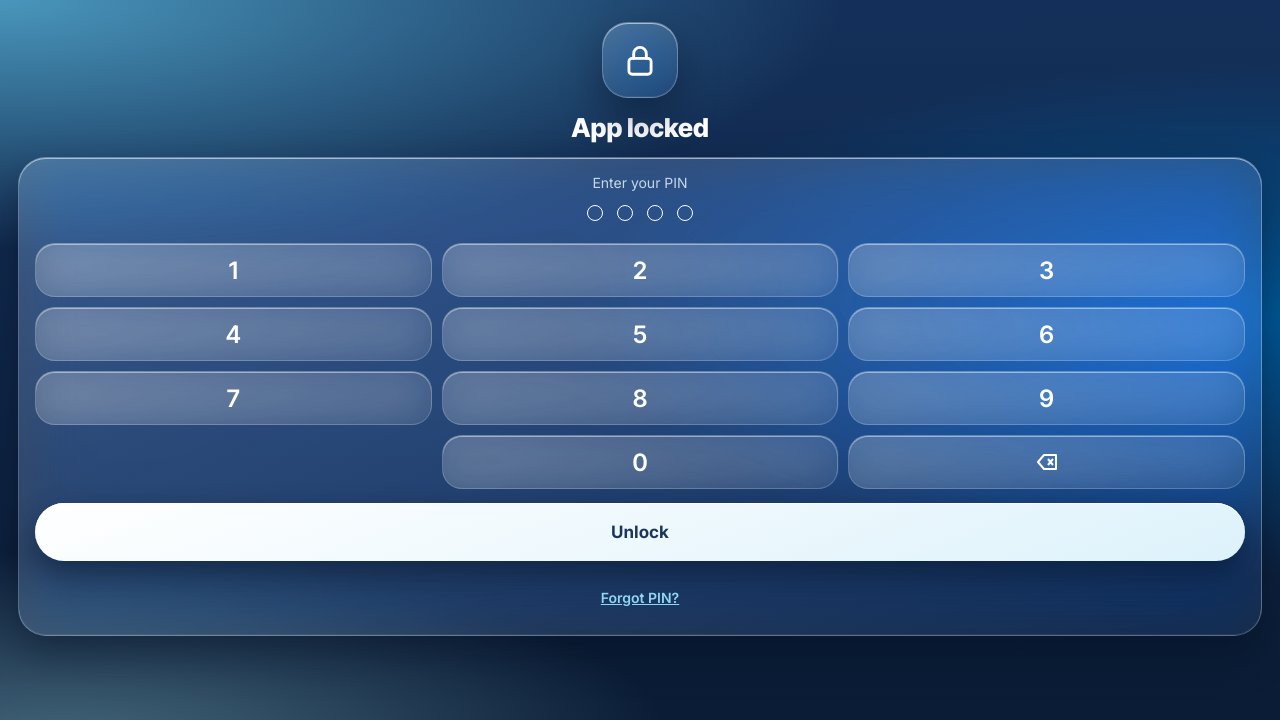
Test case: Forgot PIN: signing in with the same account clears the PIN and unlocks
Click the button "Forgot PIN?": [640, 597] box [593, 575, 687, 619]
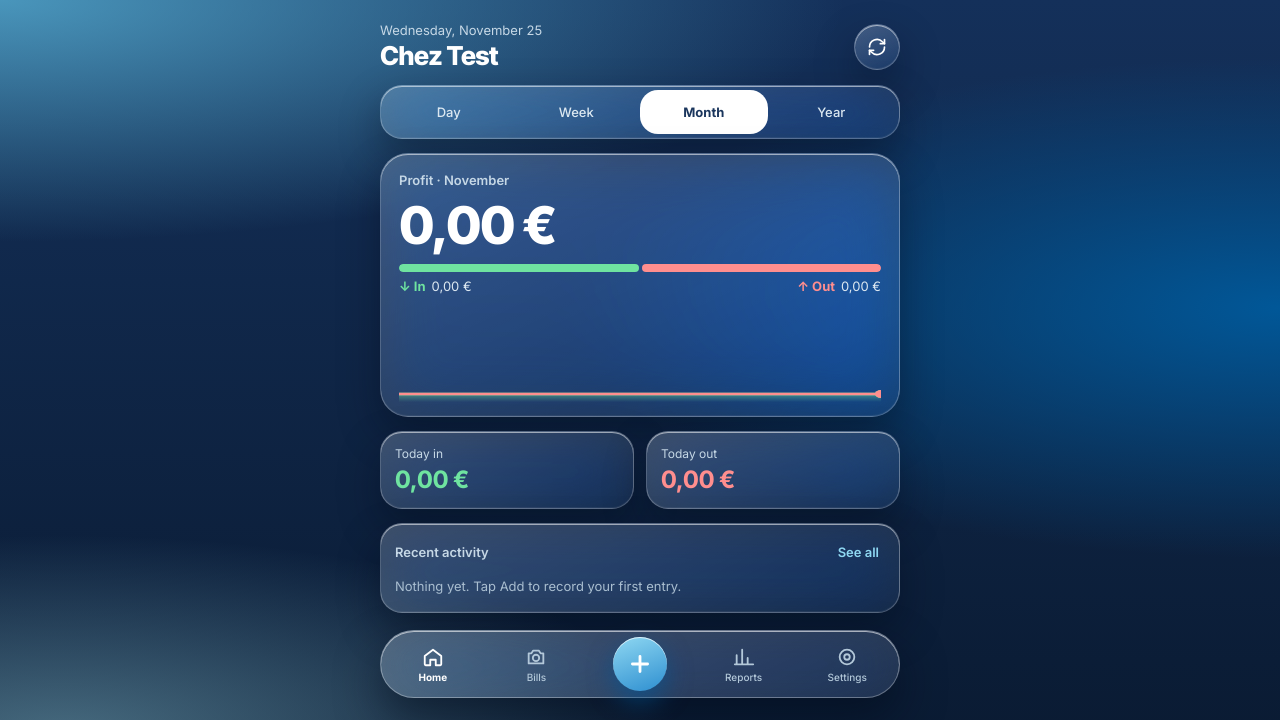
Check: the text "Recent activity" is shown, box [395, 544, 489, 560]
